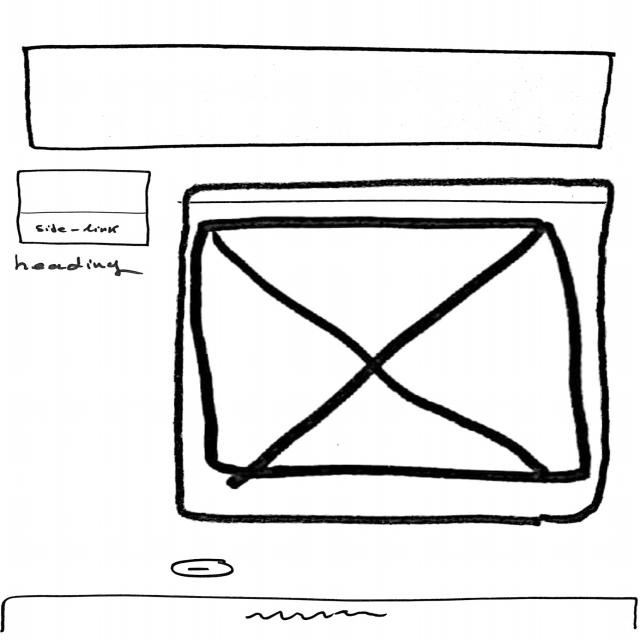container: (173, 178, 613, 527), (22, 44, 614, 150), (13, 168, 153, 246)
icon-button: (170, 557, 238, 578)
image: (193, 216, 593, 484)
label: (9, 254, 145, 278), (32, 223, 120, 236)
text: (242, 608, 390, 622)
